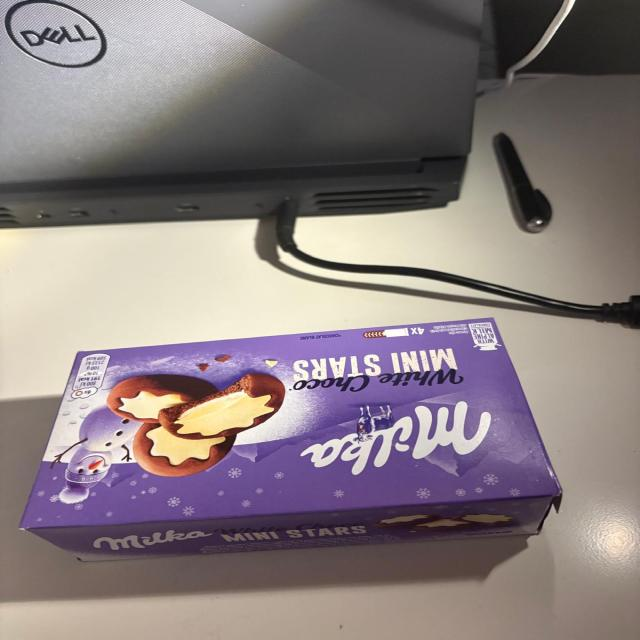good_package: (19, 318, 562, 564)
